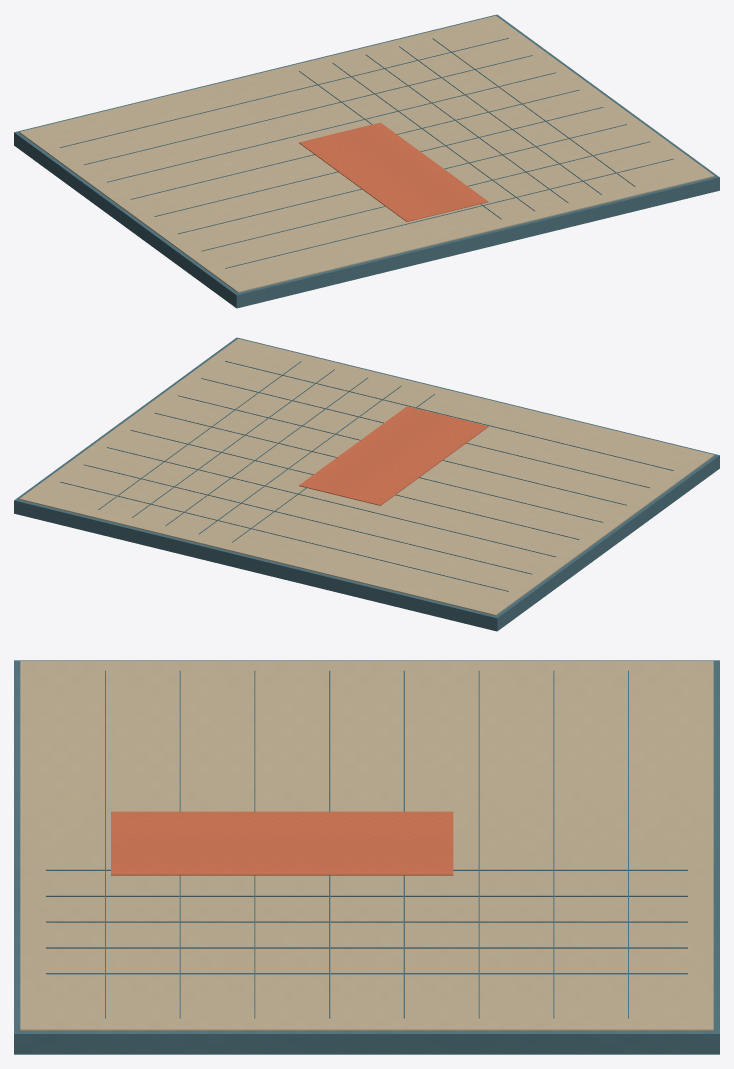
File: atlas100-s044-a07.lod2.glb
The picture shows the model from 3 angles, top to bottom: view 1: azimuth 30°, elevation 25°; view 2: azimuth 150°, elevation 25°; view 3: azimuth 270°, elevation 25°; orthographic projection. The views are drawn at different scales.
Parts seen in each view (by area): view 1: atlas100-s044-a07:part-001, atlas100-s044-a07:part-000, atlas100-s044-a07:part-021, atlas100-s044-a07:part-014, atlas100-s044-a07:part-013, atlas100-s044-a07:part-015, atlas100-s044-a07:part-020, atlas100-s044-a07:part-017, atlas100-s044-a07:part-019, atlas100-s044-a07:part-016, atlas100-s044-a07:part-018; view 2: atlas100-s044-a07:part-001, atlas100-s044-a07:part-000, atlas100-s044-a07:part-021, atlas100-s044-a07:part-014, atlas100-s044-a07:part-013, atlas100-s044-a07:part-020, atlas100-s044-a07:part-015, atlas100-s044-a07:part-016, atlas100-s044-a07:part-019, atlas100-s044-a07:part-017, atlas100-s044-a07:part-018; view 3: atlas100-s044-a07:part-001, atlas100-s044-a07:part-000, atlas100-s044-a07:part-021, atlas100-s044-a07:part-009, atlas100-s044-a07:part-010, atlas100-s044-a07:part-011, atlas100-s044-a07:part-012, atlas100-s044-a07:part-014, atlas100-s044-a07:part-015.
Part boxes in pixels (<box>): atlas100-s044-a07:part-001: <box>19,15,714,292</box>; atlas100-s044-a07:part-000: <box>14,14,719,308</box>; atlas100-s044-a07:part-021: <box>299,122,488,221</box>; atlas100-s044-a07:part-014: <box>84,55,532,164</box>; atlas100-s044-a07:part-013: <box>60,38,508,147</box>; atlas100-s044-a07:part-015: <box>107,72,555,182</box>; atlas100-s044-a07:part-020: <box>225,158,673,268</box>; atlas100-s044-a07:part-017: <box>154,107,603,216</box>; atlas100-s044-a07:part-019: <box>201,141,650,251</box>; atlas100-s044-a07:part-016: <box>130,89,579,199</box>; atlas100-s044-a07:part-018: <box>178,124,626,234</box>; atlas100-s044-a07:part-001: <box>19,338,714,615</box>; atlas100-s044-a07:part-000: <box>14,337,719,631</box>; atlas100-s044-a07:part-021: <box>299,406,488,505</box>; atlas100-s044-a07:part-014: <box>83,464,532,574</box>; atlas100-s044-a07:part-013: <box>60,481,508,591</box>; atlas100-s044-a07:part-020: <box>225,361,673,470</box>; atlas100-s044-a07:part-015: <box>107,447,555,557</box>; atlas100-s044-a07:part-016: <box>130,430,579,539</box>; atlas100-s044-a07:part-019: <box>201,378,649,487</box>; atlas100-s044-a07:part-017: <box>154,412,603,522</box>; atlas100-s044-a07:part-018: <box>178,395,626,505</box>; atlas100-s044-a07:part-001: <box>20,661,713,1030</box>; atlas100-s044-a07:part-000: <box>14,660,719,1054</box>; atlas100-s044-a07:part-021: <box>111,811,453,875</box>; atlas100-s044-a07:part-009: <box>46,895,687,896</box>; atlas100-s044-a07:part-010: <box>46,921,687,922</box>; atlas100-s044-a07:part-011: <box>46,947,687,948</box>; atlas100-s044-a07:part-012: <box>46,973,687,974</box>; atlas100-s044-a07:part-014: <box>553,670,554,1018</box>; atlas100-s044-a07:part-015: <box>478,670,479,1018</box>.
Size of the model in its own units: 13.02 by 0.404 by 10.4.
Materials: 3 (3 with a texture image).
